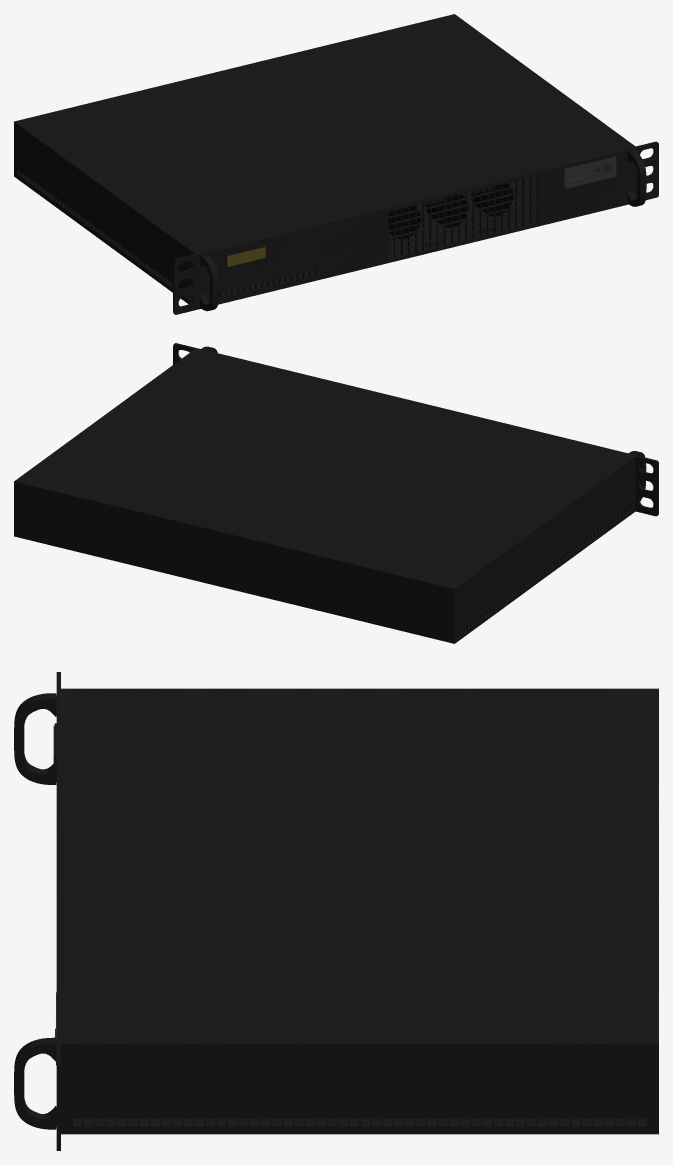
The picture shows the model from 3 angles, top to bottom: view 1: azimuth 30°, elevation 25°; view 2: azimuth 150°, elevation 25°; view 3: azimuth 270°, elevation 25°; orthographic projection. The views are drawn at different scales.
Parts seen in each view (by area): view 1: Plane.006, Plane.015, Plane.002, Plane.003, Circle, Circle.001, Plane.014, Circle.002; view 2: Plane.006; view 3: Plane.006, Plane.002, Plane.003.
Boxes of the visible parts, bbox=[...] form: Plane.006: bbox=[14, 14, 658, 314]; Plane.015: bbox=[564, 156, 616, 188]; Plane.002: bbox=[627, 149, 646, 206]; Plane.003: bbox=[200, 254, 218, 311]; Circle: bbox=[471, 183, 513, 216]; Circle.001: bbox=[426, 194, 468, 227]; Plane.014: bbox=[225, 245, 266, 267]; Circle.002: bbox=[388, 205, 421, 239]; Plane.006: bbox=[14, 343, 658, 643]; Plane.006: bbox=[56, 672, 658, 1150]; Plane.002: bbox=[14, 1037, 56, 1129]; Plane.003: bbox=[14, 693, 56, 784].
Size of the model in its own units: 18.45 by 2 by 12.88.
Materials: 6 (1 with a texture image).
